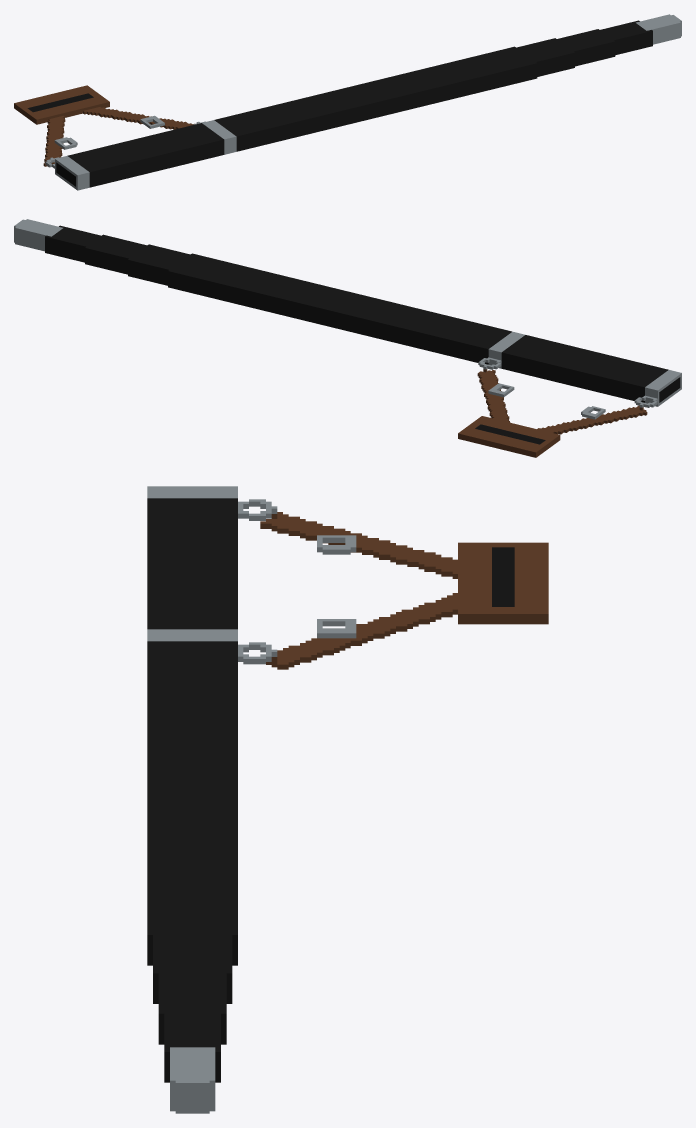
The model's file is baldric.glb.
3 views of the same model, one above another, from view 1: azimuth 30°, elevation 25°; view 2: azimuth 150°, elevation 25°; view 3: azimuth 270°, elevation 25° (orthographic). The views are drawn at different scales.
Visible parts, largest first — view 1: baldric:compound; view 2: baldric:compound; view 3: baldric:compound.
Part boxes in pixels (<box>): baldric:compound: <box>14,14,681,190</box>; baldric:compound: <box>14,219,681,457</box>; baldric:compound: <box>147,486,548,1113</box>.
Bounding box in the file's own units: 1 × 0.024 × 0.284.
